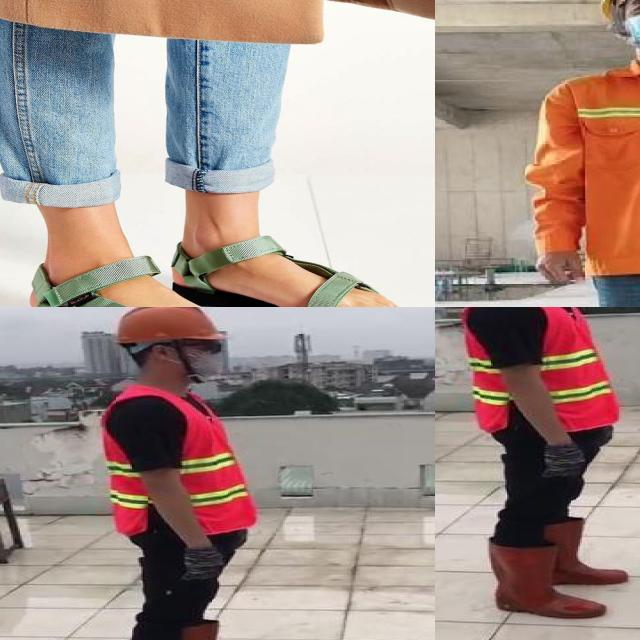Sandals: (170, 210, 424, 307), (27, 231, 295, 307)
boots: (485, 541, 604, 621), (546, 519, 630, 588), (178, 621, 261, 640)
face_mask: (177, 337, 229, 376)
glasses: (182, 336, 228, 356)
hand_glove: (540, 445, 598, 479), (174, 545, 225, 582)
hand_noglove: (531, 248, 588, 292)
head_helmet: (116, 307, 230, 344)
person: (86, 307, 276, 640), (448, 307, 640, 627), (519, 0, 640, 307)
vest: (93, 385, 260, 533), (461, 307, 619, 431)
